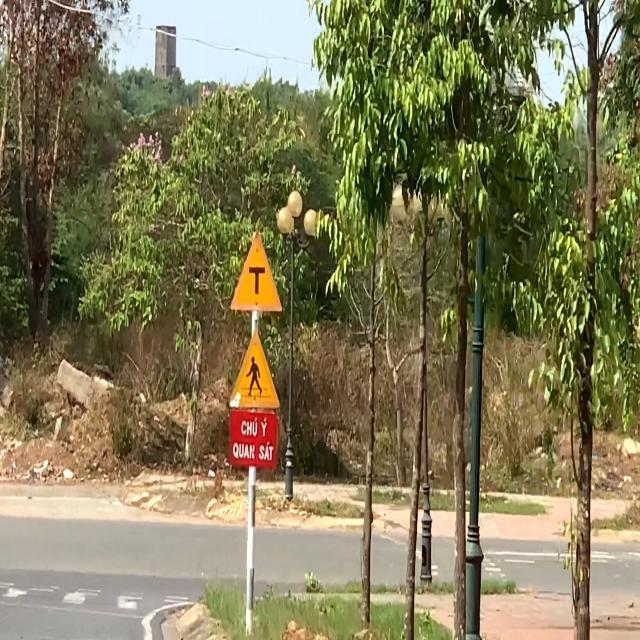205-duong-giao-nhau: (230, 232, 286, 314)
224-duong-nguoi-di-bo-cat-ngang: (229, 336, 281, 410)
